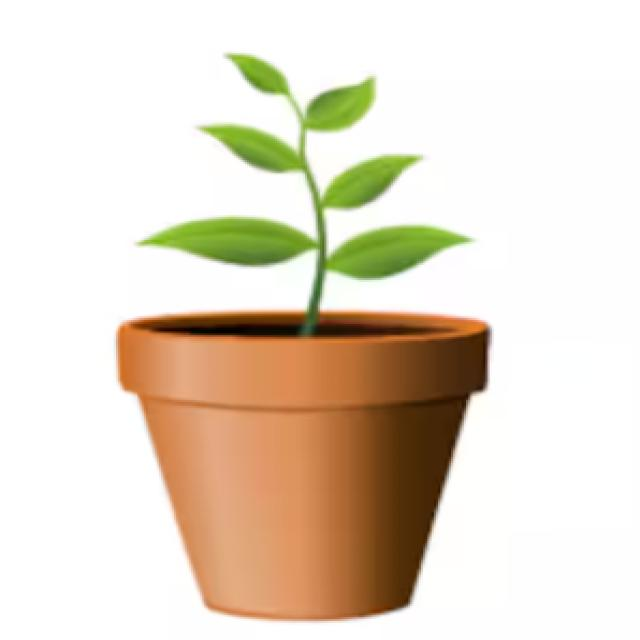Plant Pot: (99, 294, 542, 633)
